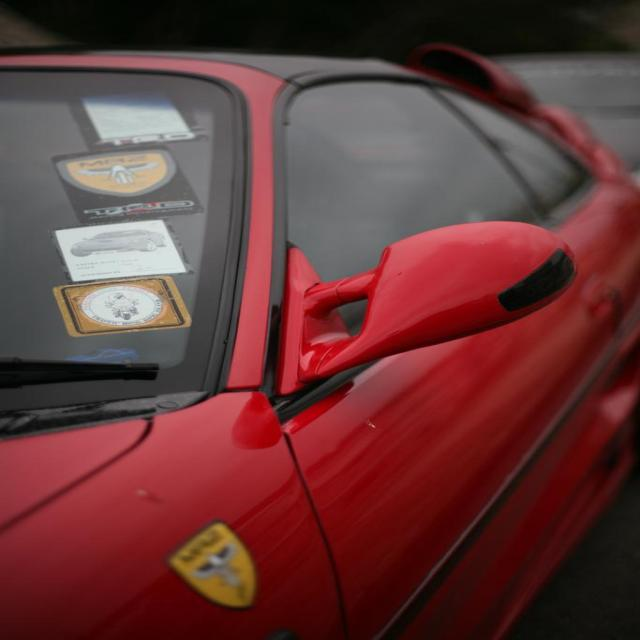car: (6, 27, 612, 628)
